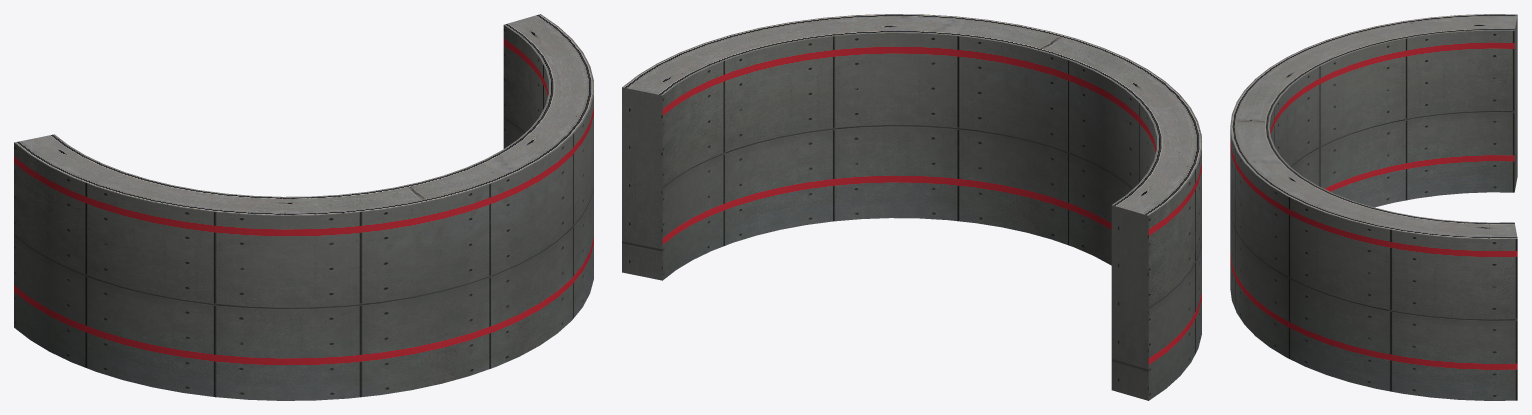
File: wall_2.FBX
3 renders of one model, left to right at view 1: azimuth 30°, elevation 25°; view 2: azimuth 150°, elevation 25°; view 3: azimuth 270°, elevation 25°, orthographic. The views are drawn at different scales.
Parts seen in each view (by area): view 1: Box004; view 2: Box004; view 3: Box004.
Part boxes in pixels (x1,y1,x2,y2): Box004: (14,14,593,400); Box004: (622,14,1201,400); Box004: (1230,14,1517,400).
Bounding box in the file's own units: 504 × 169 × 272.
Materials: 1 (1 with a texture image).
